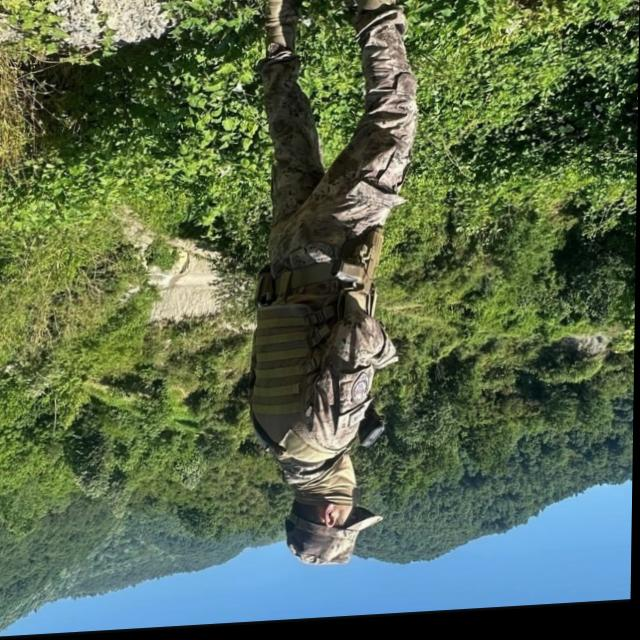poh_personel: (248, 0, 432, 576)
